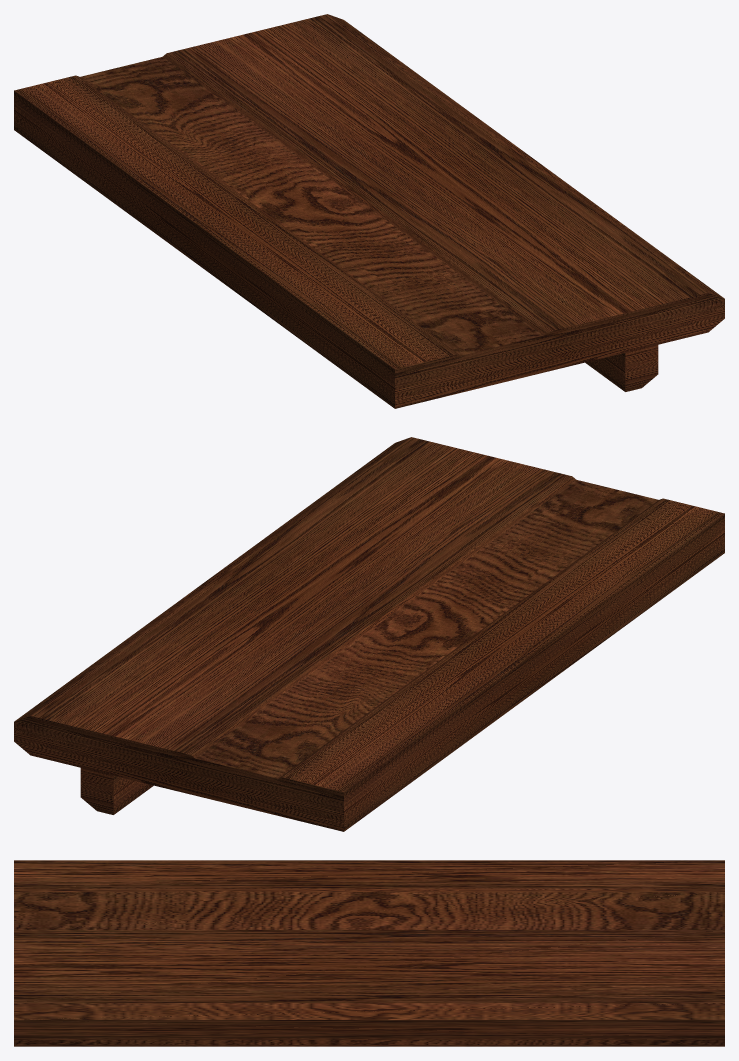
The model's file is table_side.glb.
3 views of the same model, one above another, from view 1: azimuth 30°, elevation 25°; view 2: azimuth 150°, elevation 25°; view 3: azimuth 270°, elevation 25° (orthographic). The views are drawn at different scales.
Parts seen in each view (by area): view 1: object1.005; view 2: object1.005; view 3: object1.005.
Boxes of the visible parts, x1,y1,x2,y2 form: object1.005: [14, 14, 724, 408]; object1.005: [14, 437, 724, 831]; object1.005: [14, 860, 724, 1046].
Size of the model in its own units: 2.92 by 0.6689 by 5.85.
1 material, 1 textured.
